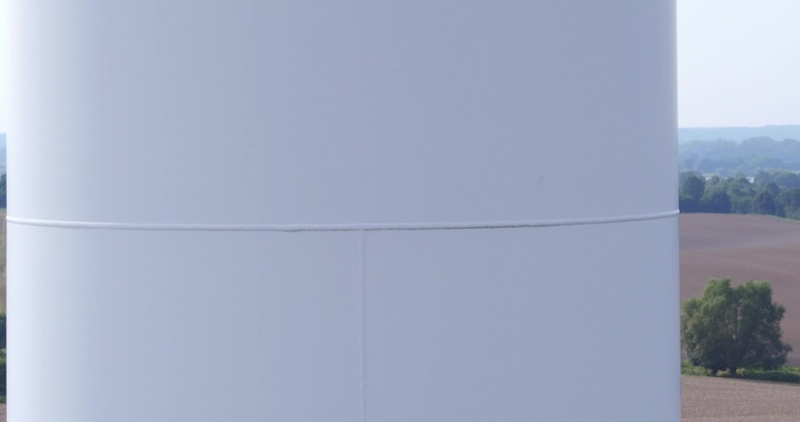weldseam: (3, 205, 683, 233), (352, 218, 374, 422)
